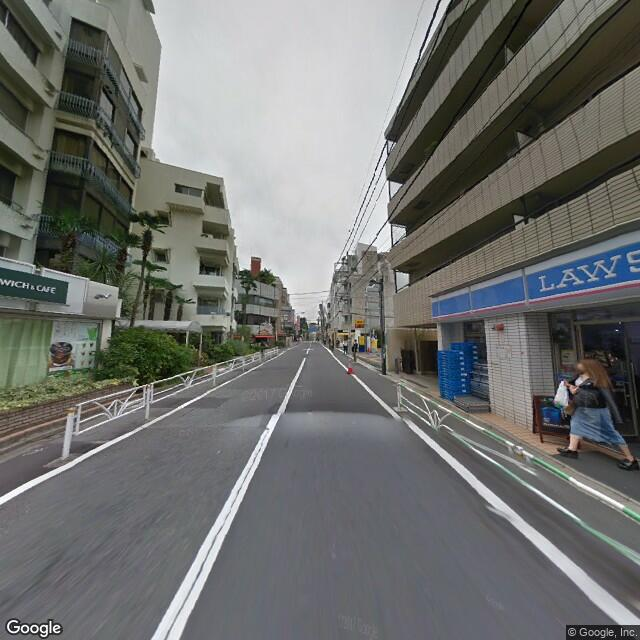lawson: (433, 227, 638, 329)
